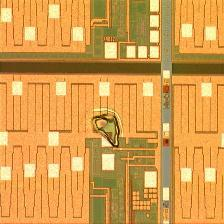PARTICLE: (84, 102, 132, 150)
